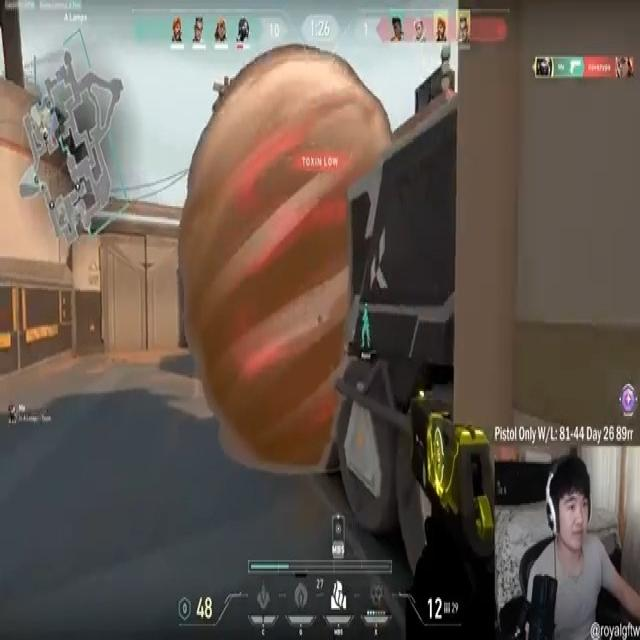ally behind wall: (360, 304, 370, 353)
smoke: (185, 52, 396, 464)
